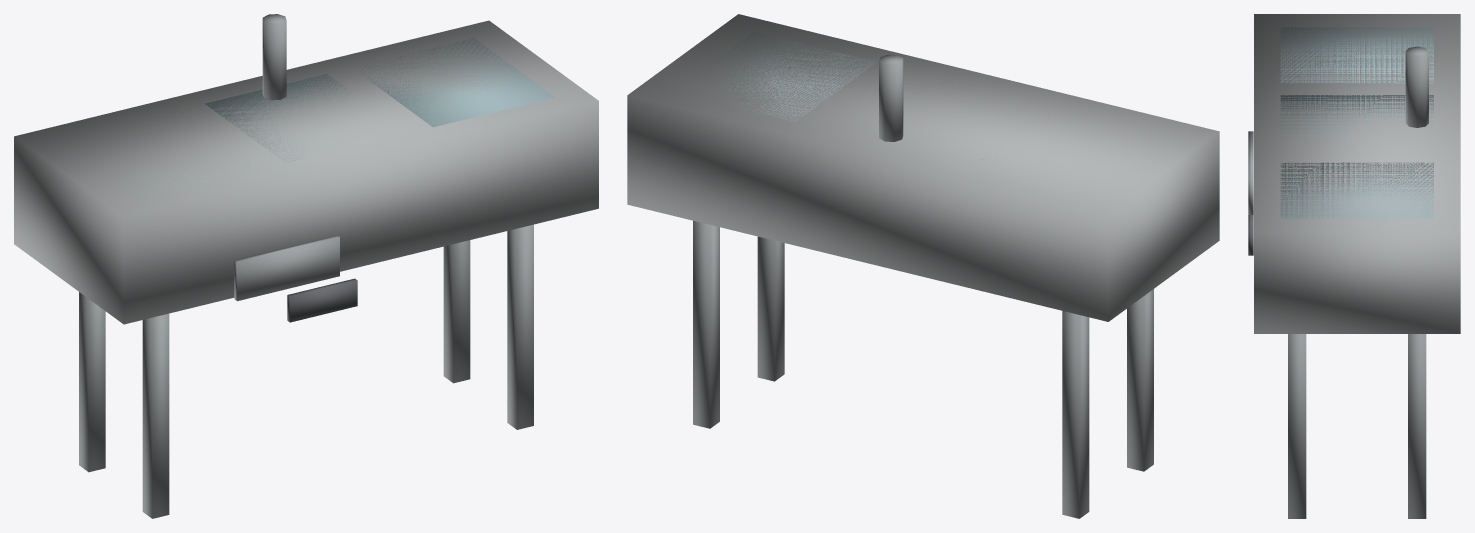
Rendered from three_bay_sink__weathered.glb.
3 renders of one model, left to right at view 1: azimuth 30°, elevation 25°; view 2: azimuth 150°, elevation 25°; view 3: azimuth 270°, elevation 25°, orthographic. The views are drawn at different scales.
Parts seen in each view (by area): view 1: world; view 2: world; view 3: world.
Boxes of the visible parts, x1,y1,x2,y2 form: world: (14,14,598,518); world: (627,14,1219,518); world: (1248,14,1460,518).
Size of the model in its own units: 1.55 by 1.26 by 0.6364.
